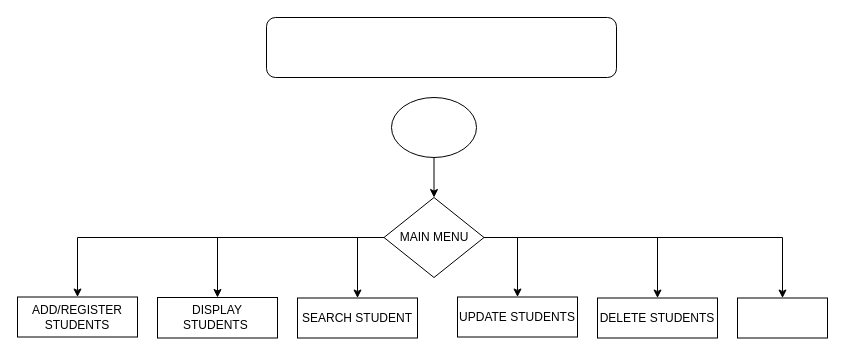
Some shapes in this 845 by 356 pixel diagram are drawn without their labels. The shapes that lost their labels are listed below. From the top down, each one's centre as x and y in pixels, then its label:
the point at 441,47: BLOCK DIAGRAM FOR THE STUDENT MANAGEMENT SYSTEM
the point at 433,127: START
the point at 782,317: EXIT
